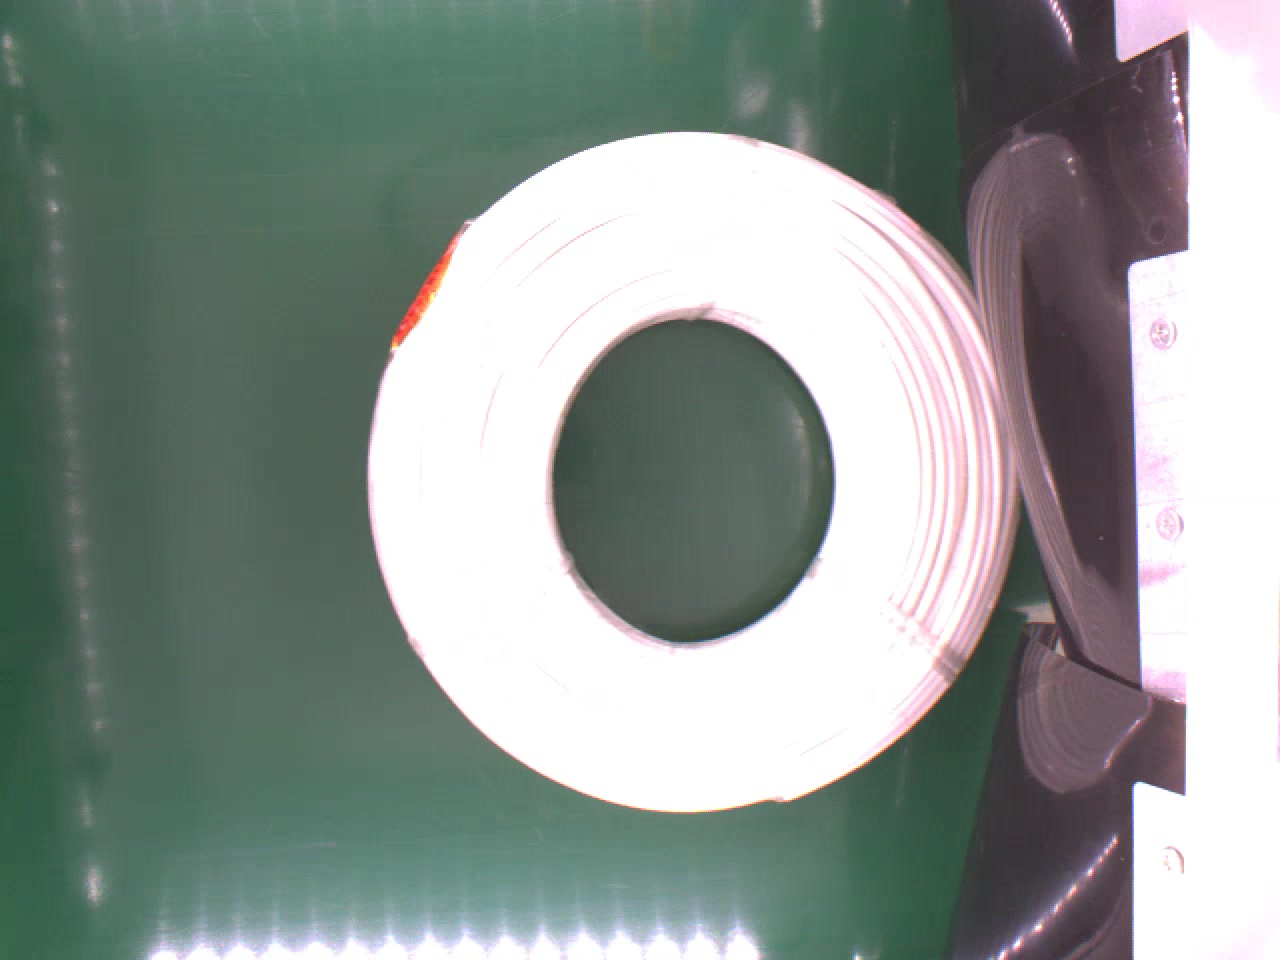white: (366, 129, 1025, 817)
